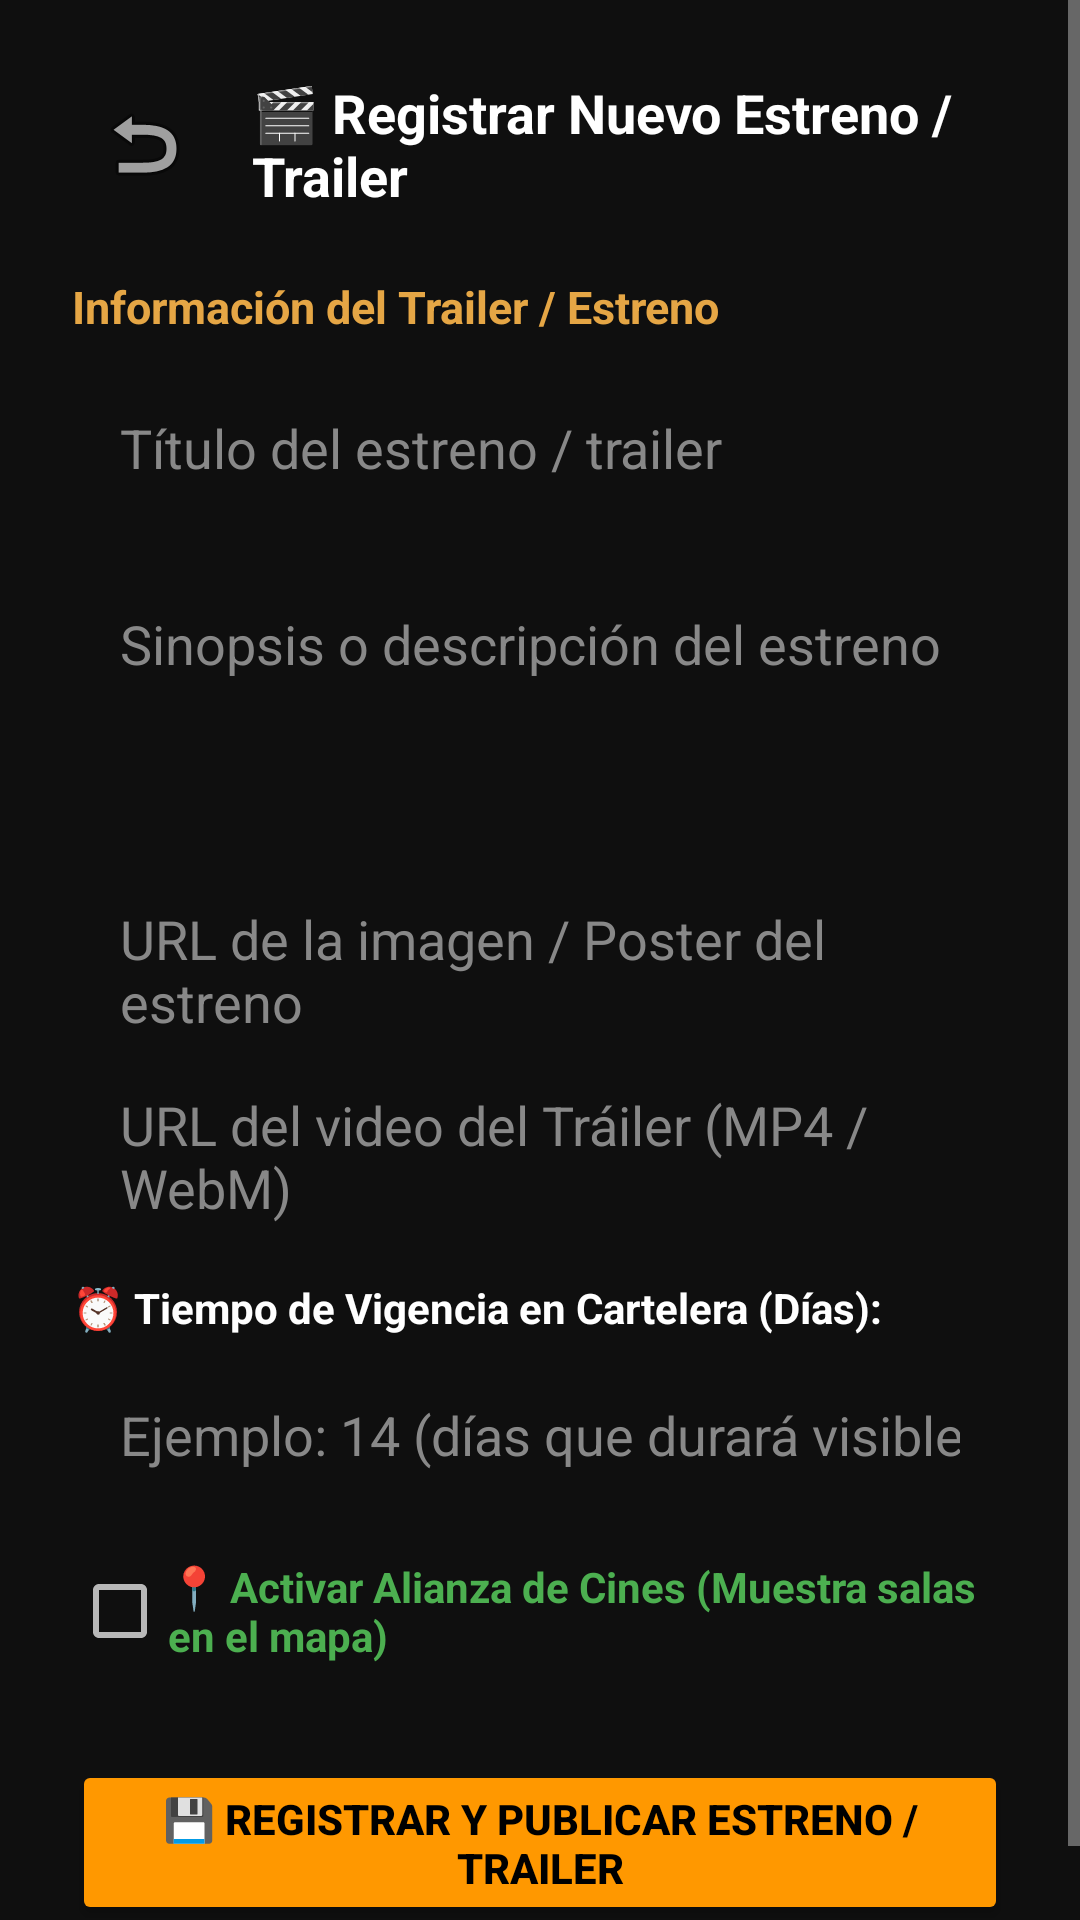

Icons on this 1080w x 1920h Android screen, each with the point to tap as point (x, y):
Volver: point (145, 144)
